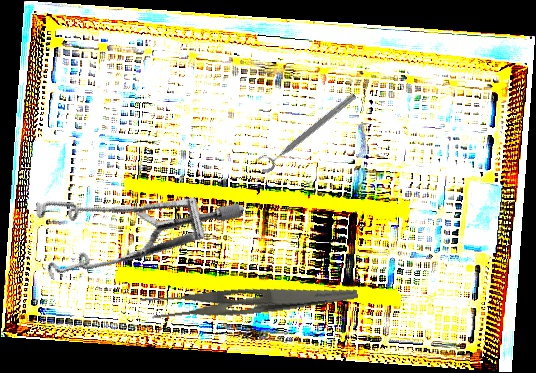Dressing Forceps: (140, 265, 359, 330)
Fixation Ring: (253, 85, 359, 176)
Speculum: (11, 129, 245, 339)
